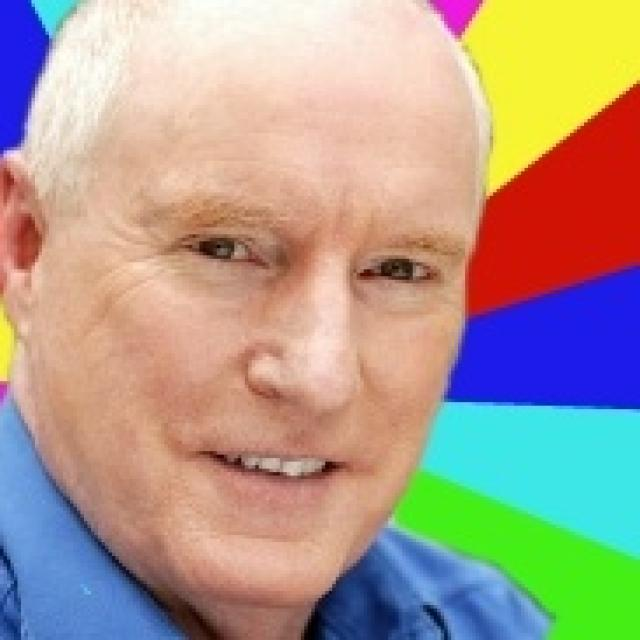Normal: (34, 0, 480, 605)
